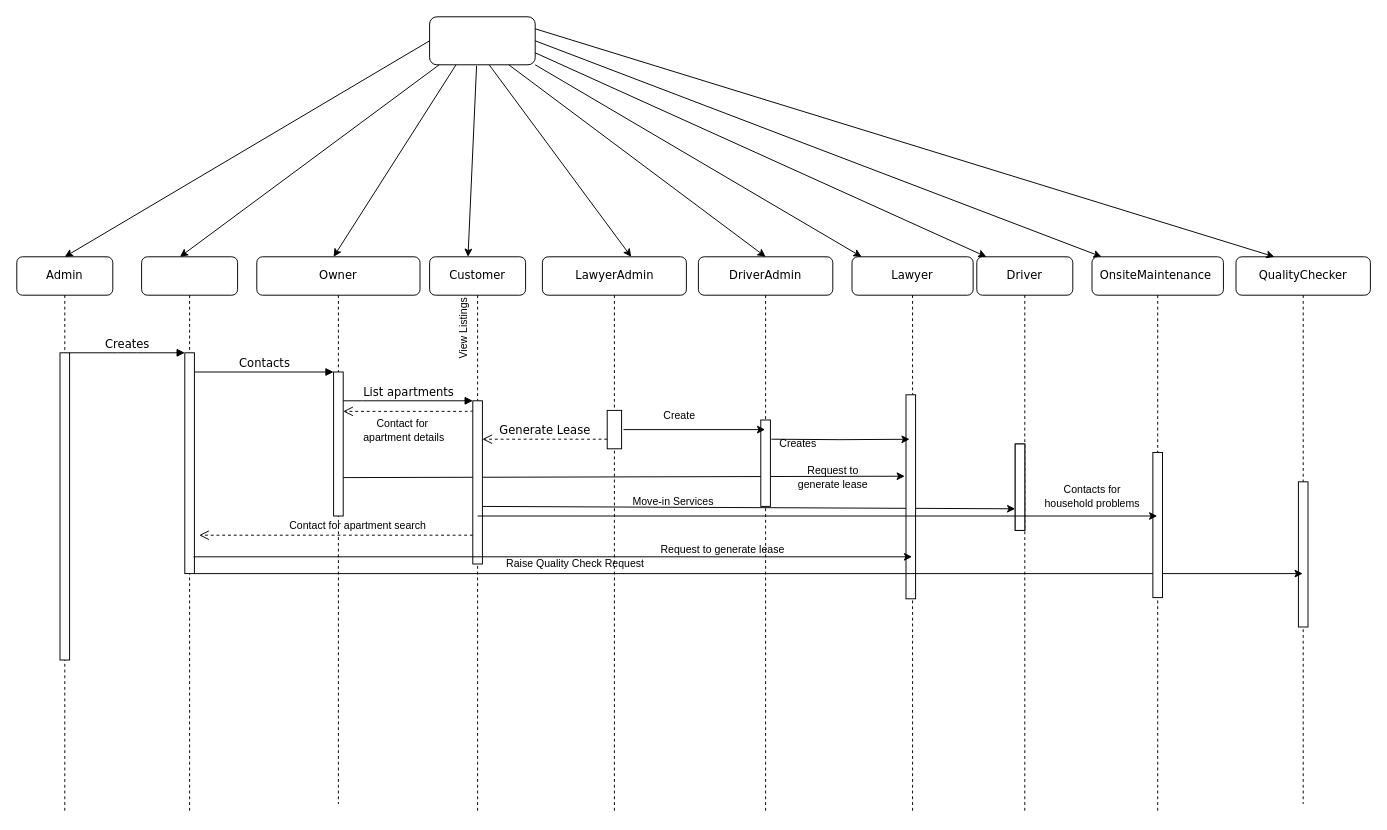
Some shapes in this 1387 by 830 pixel diagram are drawn without their labels. Each missing label, with the centre of its shape:
"Broker" goes at pixel 189 535.
"Person" goes at pixel 482 40.
